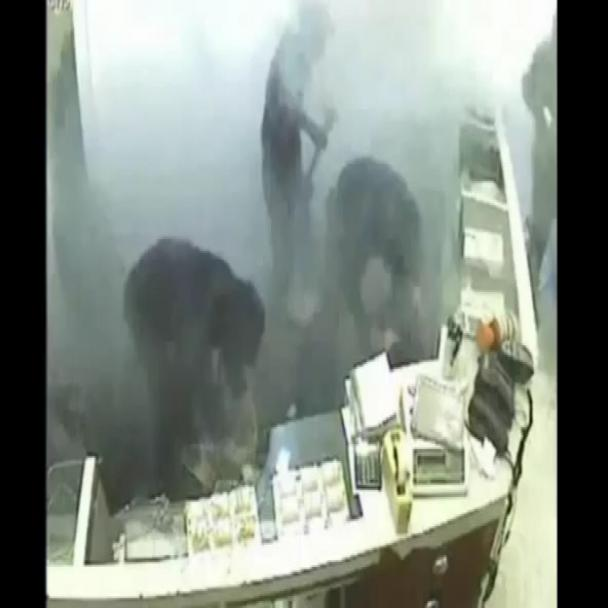smoke: (48, 0, 554, 581)
